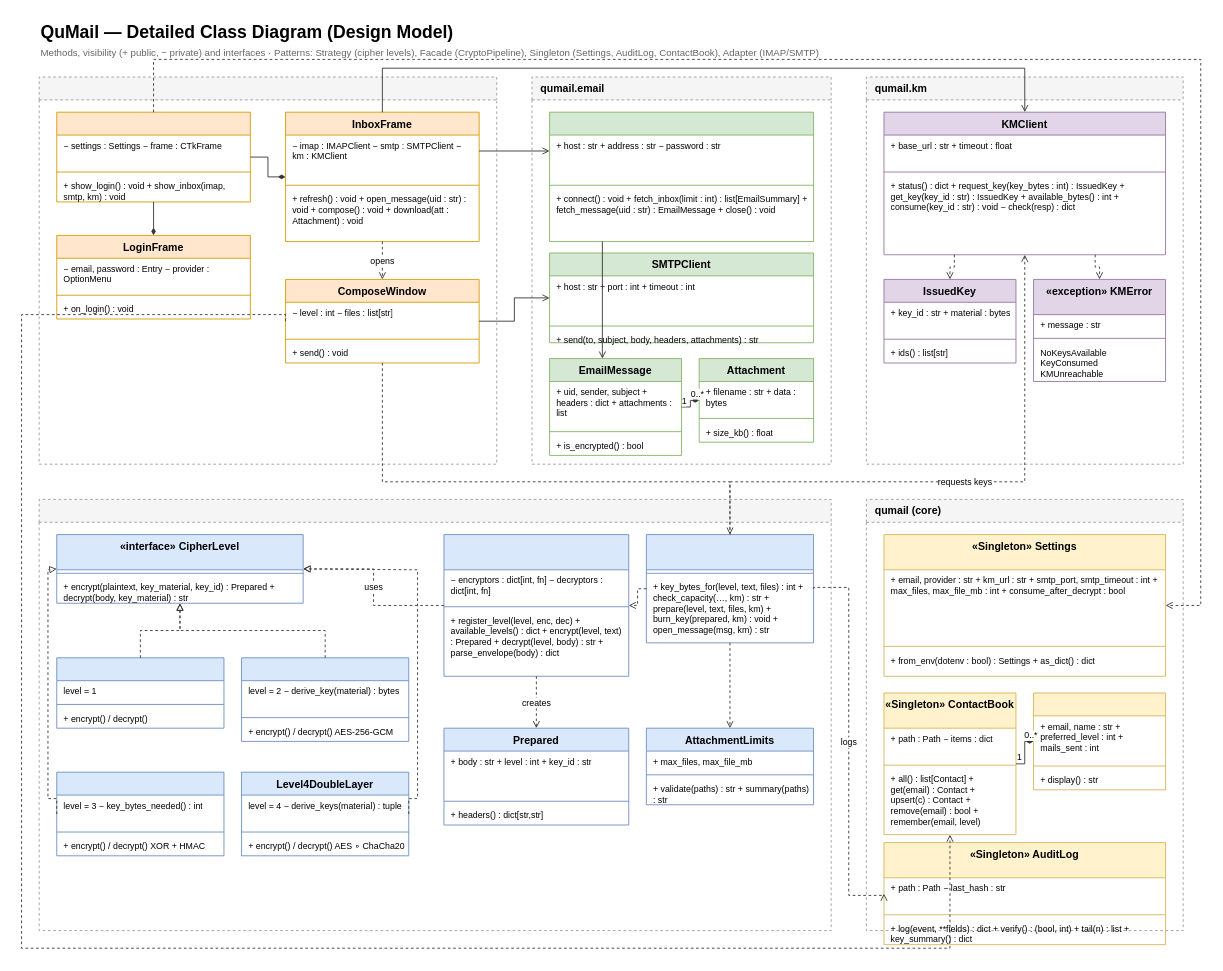
Some shapes in this 1223 by 971 pixel diagram are drawn without their labels. Here are the shapes that lost their labels. From the top down, the box of each, then its label:
(56, 111, 250, 202): QuMailApp
(549, 111, 814, 242): IMAPClient
(38, 76, 497, 464): qumail.gui
(443, 534, 629, 676): «Strategy context» CipherRegistry
(645, 534, 814, 643): «Facade» CryptoPipeline
(56, 657, 224, 728): Level1Plain
(241, 657, 409, 741): Level2QuantumAES
(38, 499, 831, 931): qumail.crypto
(1033, 692, 1166, 790): Contact
(56, 771, 224, 856): Level3OneTimePad
